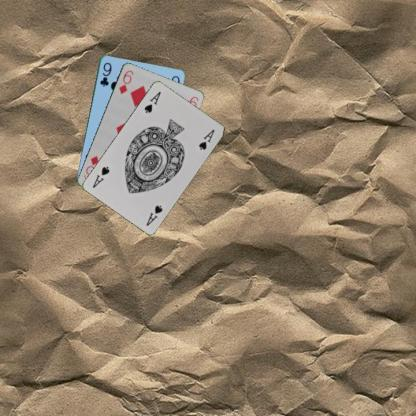6d: (116, 66, 135, 96)
9c: (97, 60, 113, 88)
As: (141, 88, 162, 114), (144, 202, 164, 227)
